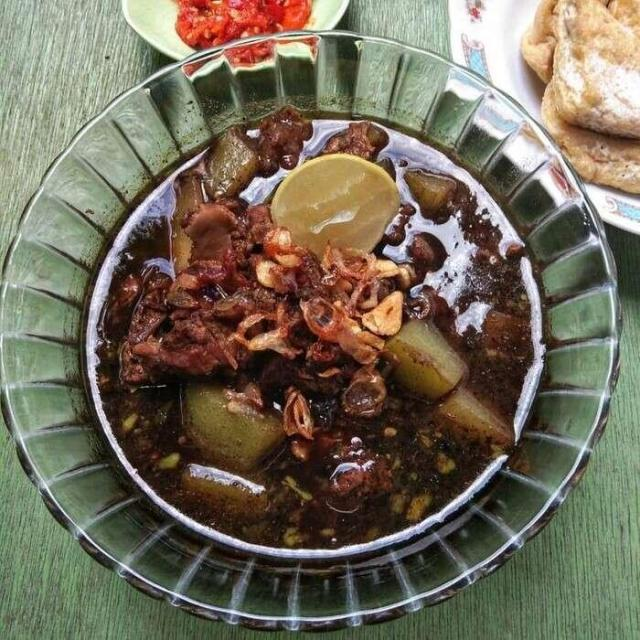Rawon: (76, 128, 534, 524)
